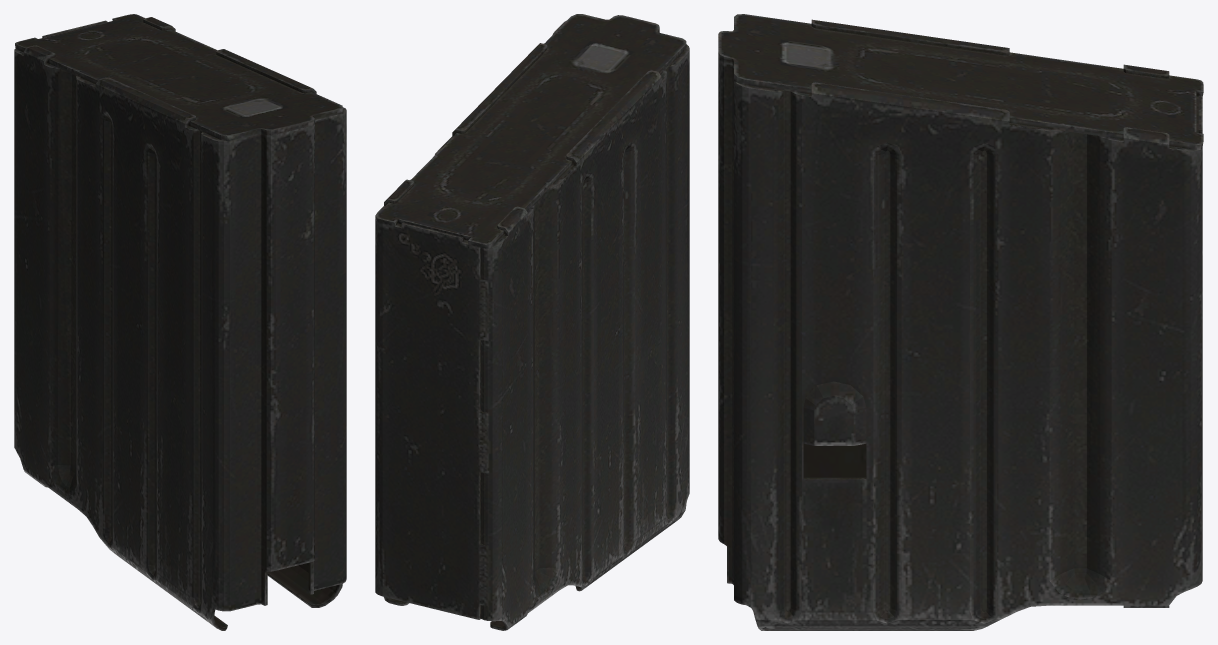
3 renders of one model, left to right at view 1: azimuth 30°, elevation 25°; view 2: azimuth 150°, elevation 25°; view 3: azimuth 270°, elevation 25°, orthographic. The views are drawn at different scales.
Visible parts, largest first — view 1: TW_5df8f535bb49d91fb446d6b0_PZ_Import; view 2: TW_5df8f535bb49d91fb446d6b0_PZ_Import; view 3: TW_5df8f535bb49d91fb446d6b0_PZ_Import.
Boxes of the visible parts, <box> form: TW_5df8f535bb49d91fb446d6b0_PZ_Import: <box>14,14,346,630</box>; TW_5df8f535bb49d91fb446d6b0_PZ_Import: <box>375,14,689,630</box>; TW_5df8f535bb49d91fb446d6b0_PZ_Import: <box>718,14,1203,630</box>.
Bounding box in the file's own units: 0.0155 × 0.0435 × 0.0557.
Materials: 1 (1 with a texture image).
